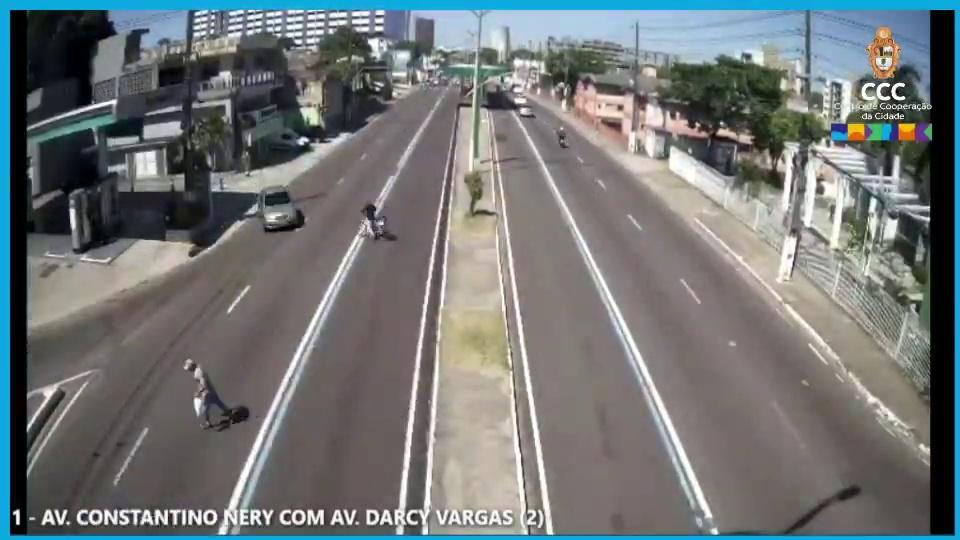car: (252, 184, 304, 239)
people: (177, 350, 240, 434), (360, 198, 384, 242)
